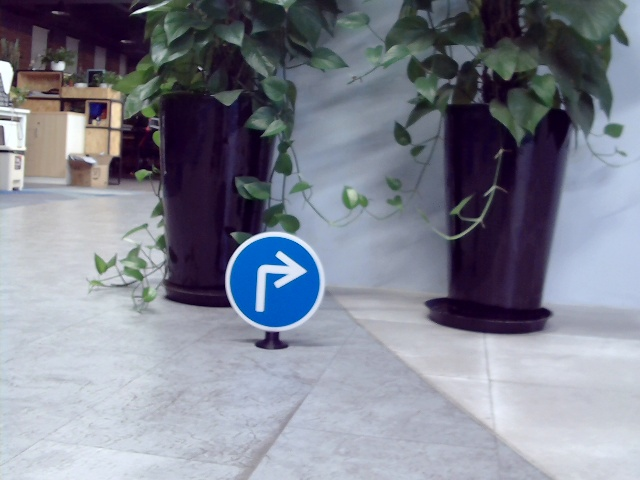turn_right: (249, 249, 306, 311)
